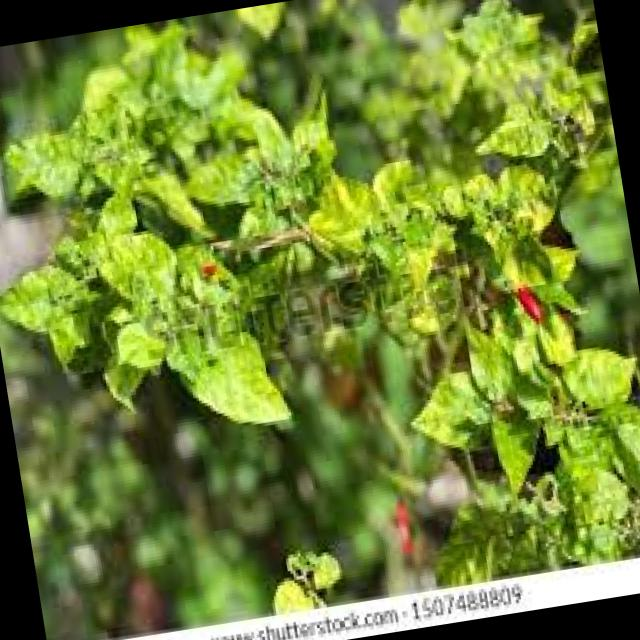Chilli_Leaf_Curl: (0, 0, 640, 640), (0, 5, 330, 468), (262, 541, 347, 616)
